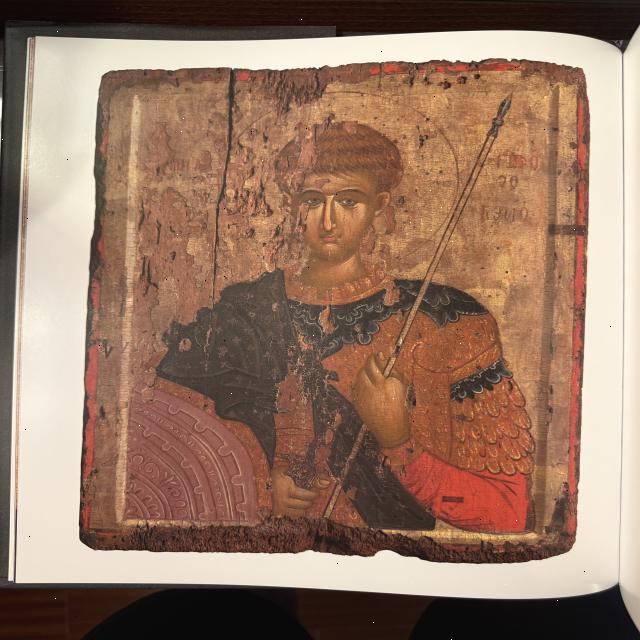aura: (223, 92, 457, 282)
shield: (122, 372, 269, 520)
spear: (311, 88, 518, 520)
st_george: (125, 83, 549, 522)
